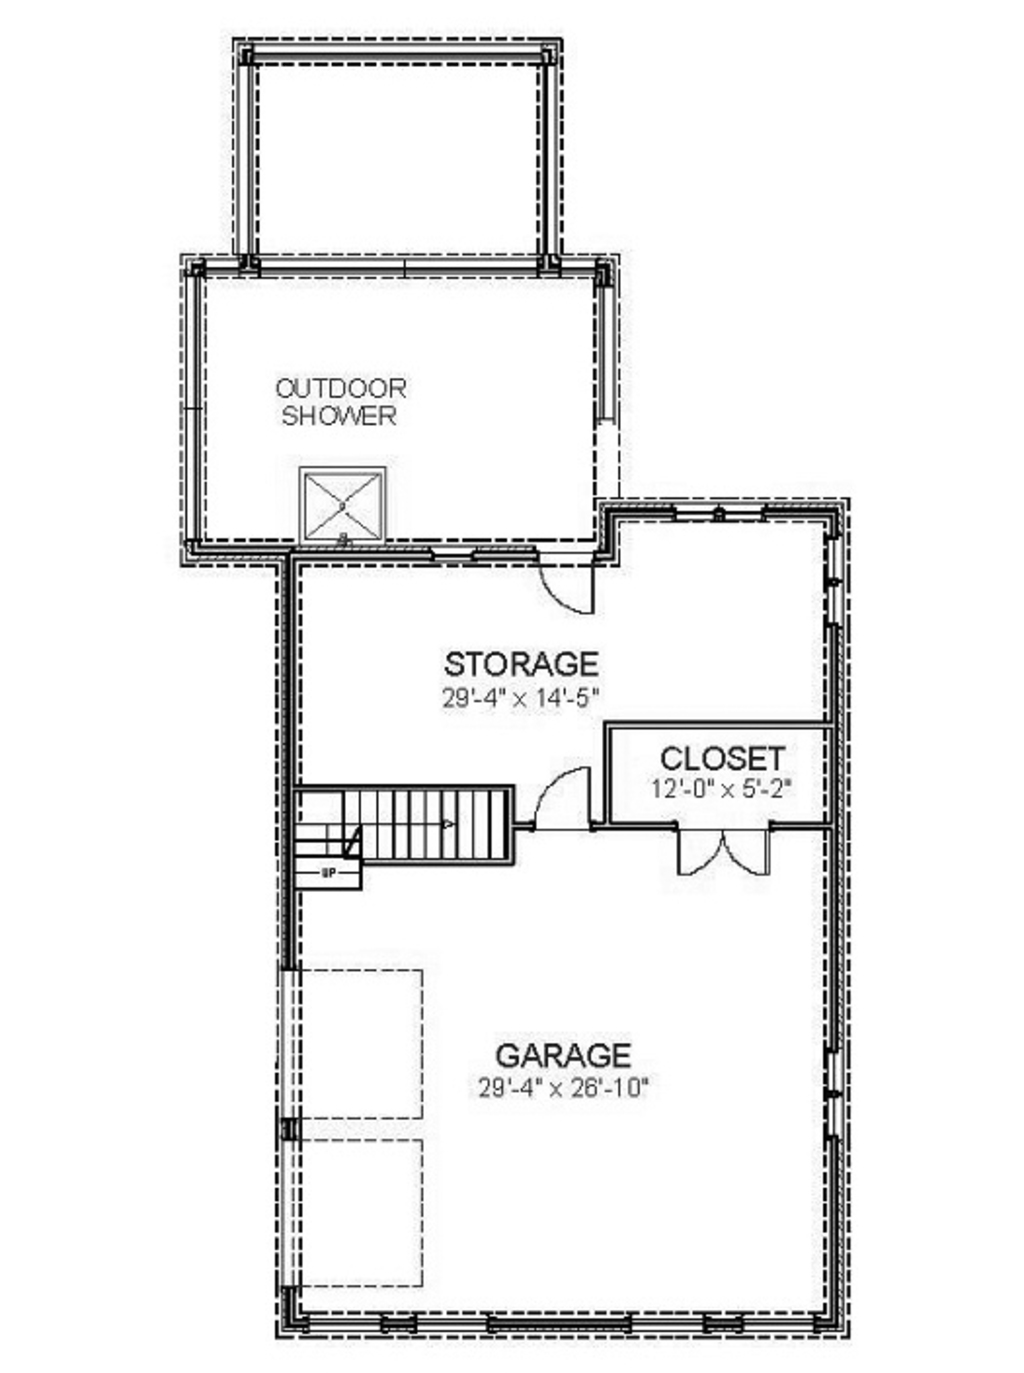door: (666, 823, 779, 883), (536, 545, 600, 615), (534, 763, 595, 835)
stairs: (291, 780, 517, 889)
